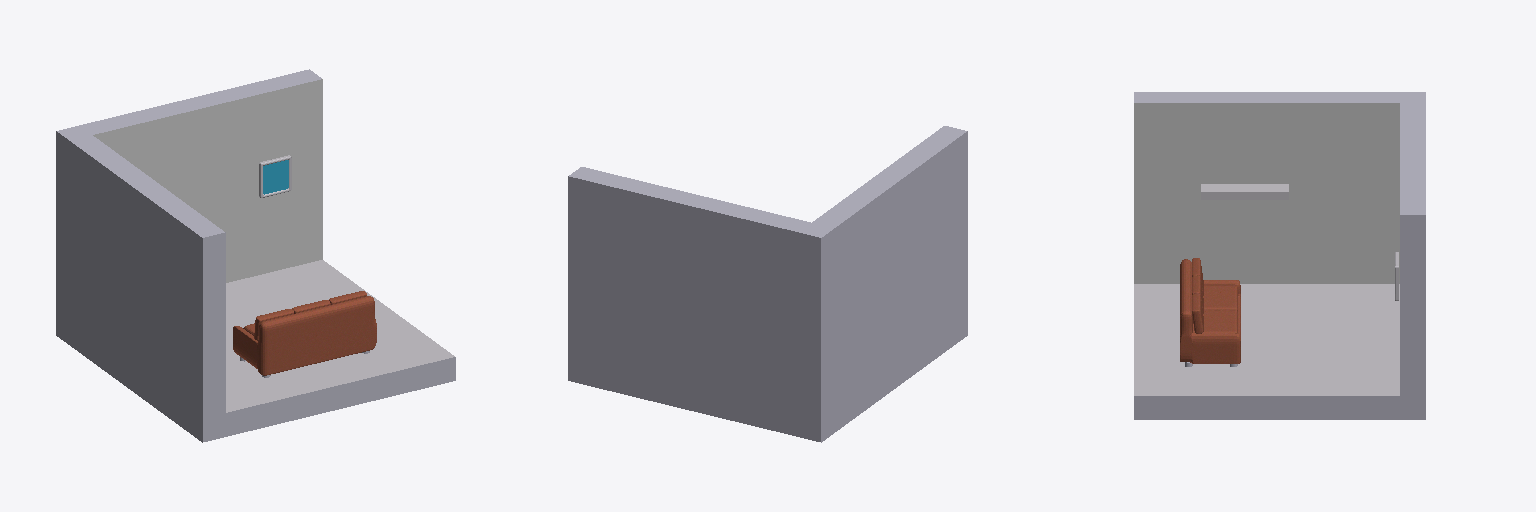
3 renders of one model, left to right at view 1: azimuth 30°, elevation 25°; view 2: azimuth 150°, elevation 25°; view 3: azimuth 270°, elevation 25°, orthographic.
Visible parts, largest first — view 1: Plane_Plane.003, sofa_Plane.004, pillows_2_Plane.007, vetro_Plane.001; view 2: Plane_Plane.003; view 3: Plane_Plane.003, sofa_Plane.004, pillows_Plane.006, Plane.001_Plane.005, pillows_2_Plane.007.
Boxes of the visible parts, <box> form: Plane_Plane.003: <box>56,69,455,442</box>; sofa_Plane.004: <box>233,296,376,375</box>; pillows_2_Plane.007: <box>254,291,366,340</box>; vetro_Plane.001: <box>263,160,288,194</box>; Plane_Plane.003: <box>568,126,967,442</box>; Plane_Plane.003: <box>1134,92,1425,419</box>; sofa_Plane.004: <box>1180,259,1240,363</box>; pillows_Plane.006: <box>1203,286,1237,332</box>; Plane.001_Plane.005: <box>1201,184,1288,199</box>; pillows_2_Plane.007: <box>1192,258,1203,333</box>.
Bounding box in the file's own units: 8.8 × 6.8 × 8.8.
Materials: 6 (2 with a texture image).